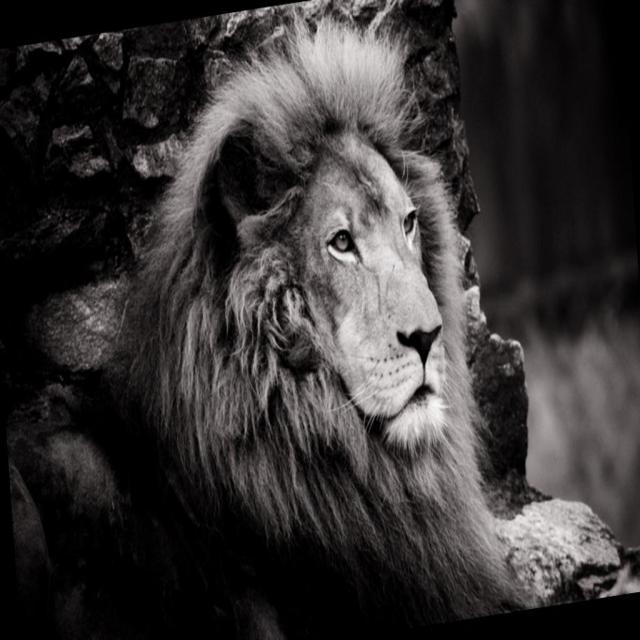Lion: (0, 0, 539, 639)
